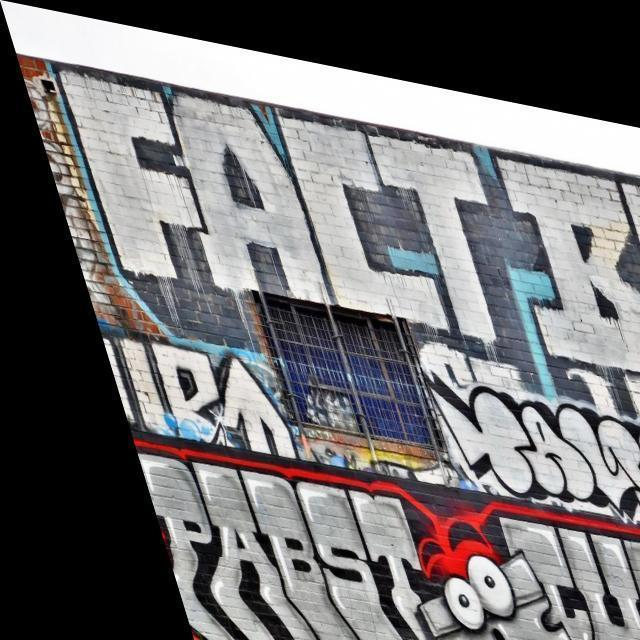nonspitting: (53, 59, 640, 365), (136, 451, 640, 640), (425, 374, 640, 518), (102, 334, 299, 460)
